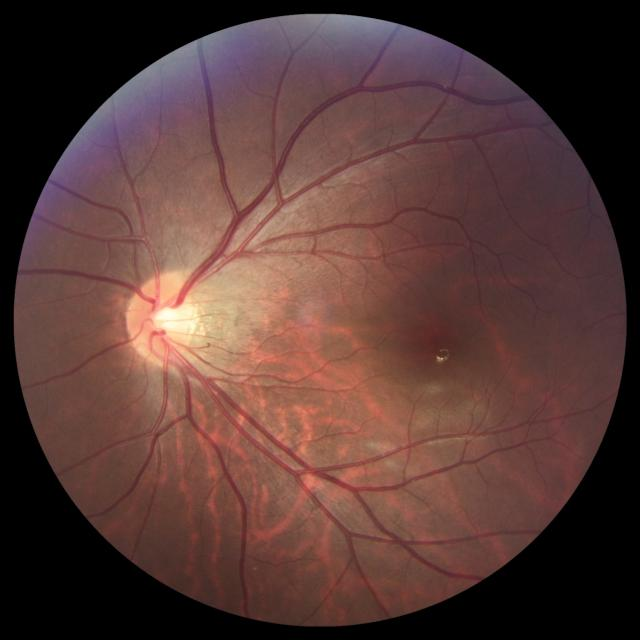OC: (152, 306, 182, 338)
OD: (127, 274, 198, 364)
